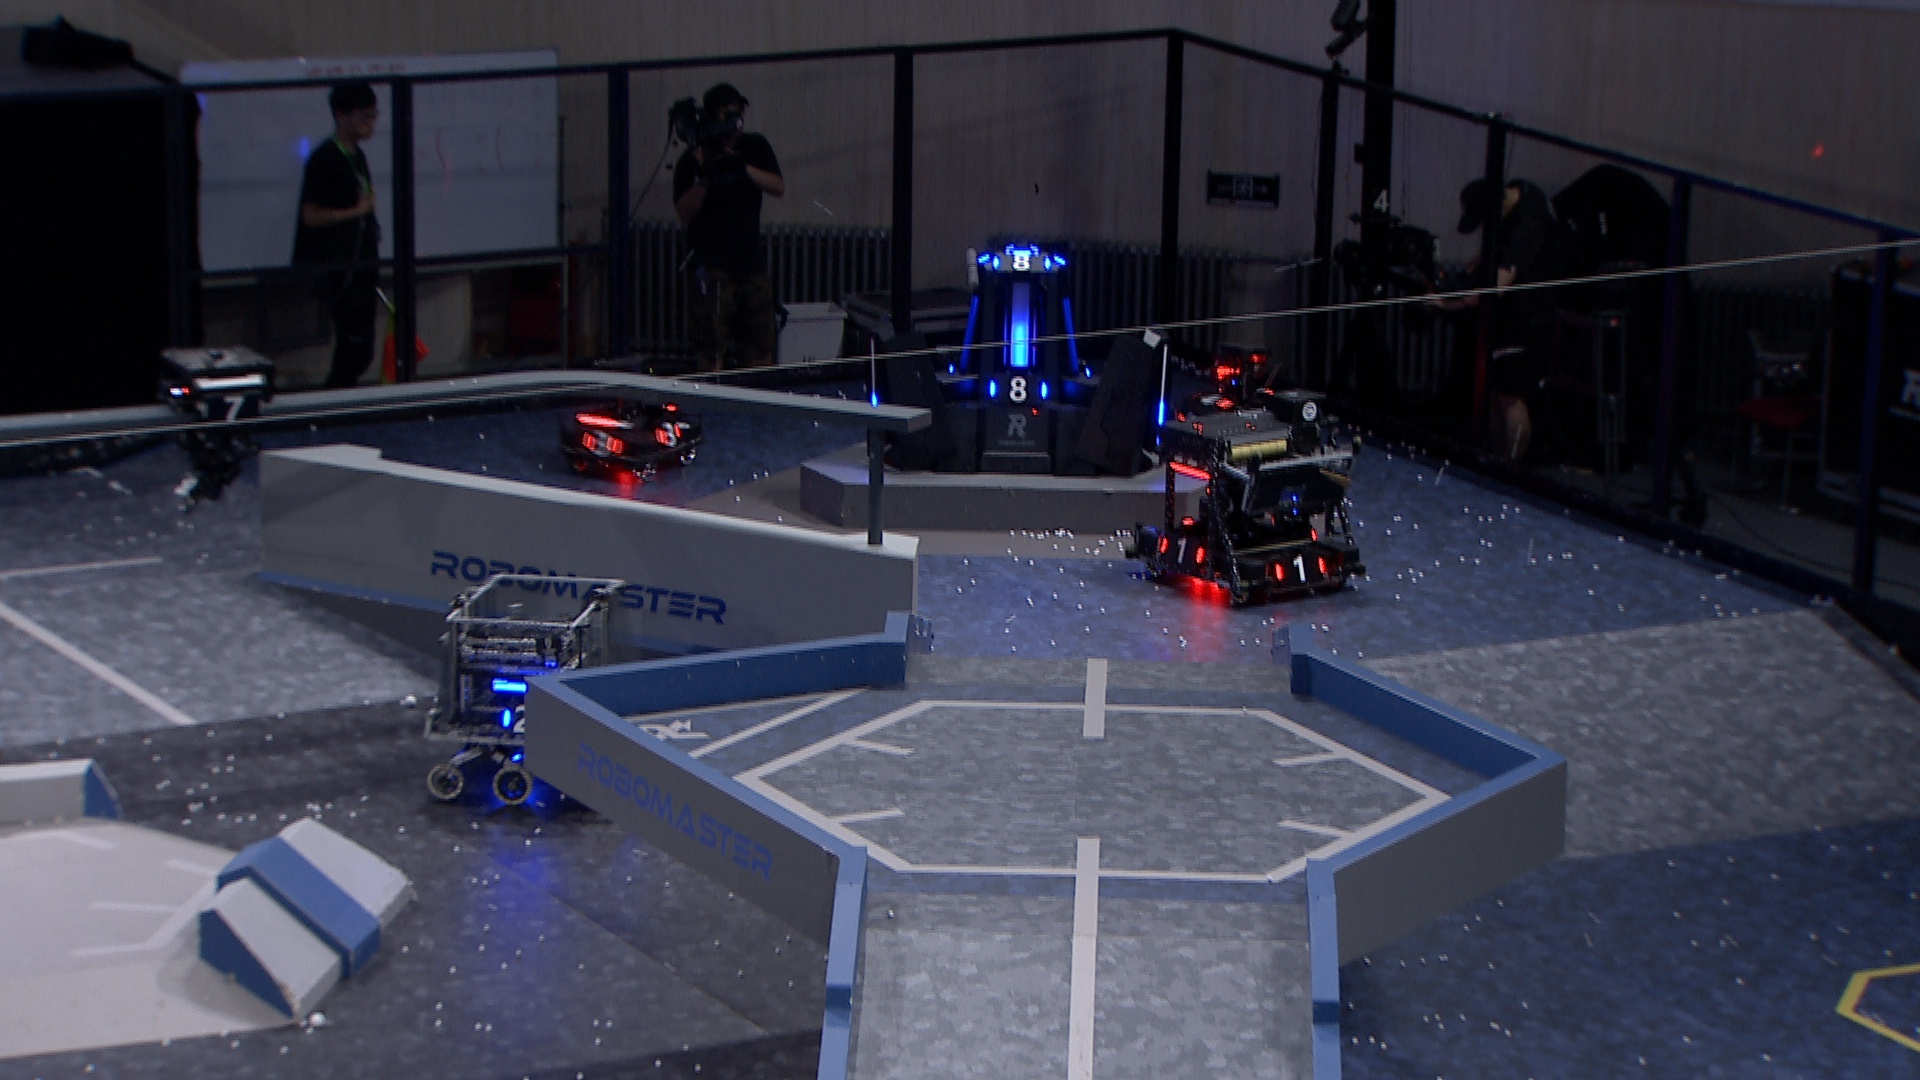armor: (195, 392, 266, 427), (982, 375, 1055, 409), (1269, 550, 1333, 585), (1058, 295, 1088, 371), (956, 295, 981, 373), (1159, 534, 1209, 568), (989, 249, 1054, 276), (501, 699, 538, 737), (580, 427, 622, 460), (1191, 386, 1237, 415), (654, 419, 686, 450), (1011, 320, 1031, 367), (1153, 396, 1168, 450)
base: (866, 229, 1174, 480)
car: (423, 564, 626, 811), (1131, 406, 1373, 607), (556, 353, 707, 477), (1168, 334, 1302, 450)
watcher: (152, 343, 280, 526)
